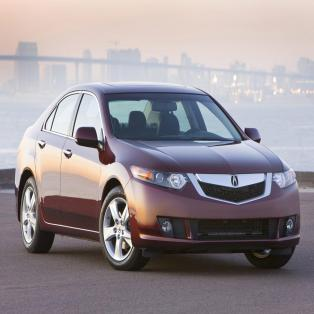Auto: (14, 83, 301, 271)
